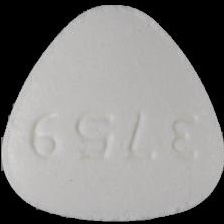55154-6157: (0, 0, 224, 224)
